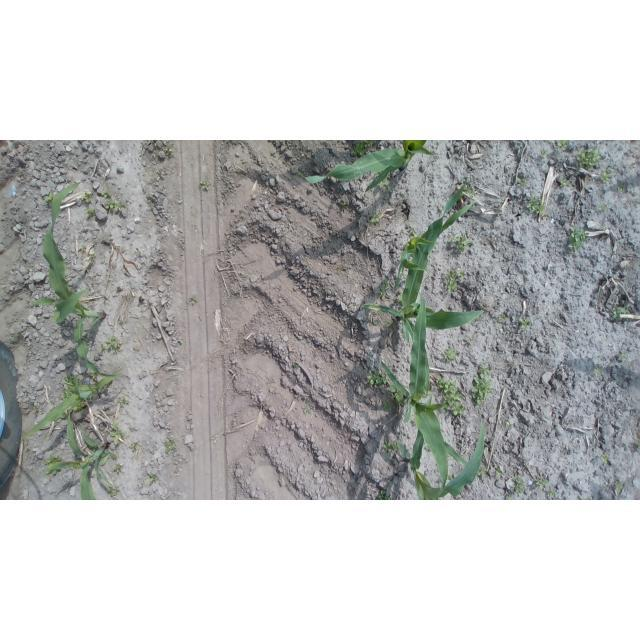Maize: (362, 186, 485, 344), (26, 182, 121, 378), (380, 313, 449, 492), (393, 201, 477, 295), (20, 370, 124, 441), (396, 418, 486, 500), (293, 140, 437, 186), (46, 410, 110, 500)
Weeds: (434, 376, 464, 416), (471, 363, 493, 406), (442, 267, 465, 293), (577, 148, 602, 171), (568, 227, 588, 252), (506, 476, 526, 500), (447, 233, 471, 253), (526, 196, 546, 218), (349, 140, 374, 156), (365, 370, 388, 387), (110, 421, 125, 444), (45, 455, 61, 476), (389, 384, 404, 405), (99, 449, 117, 466), (103, 198, 125, 211), (460, 183, 476, 199), (106, 336, 121, 352), (377, 177, 393, 192), (599, 168, 613, 184), (612, 307, 629, 320), (444, 347, 459, 361), (382, 440, 398, 453), (535, 477, 550, 490), (64, 375, 81, 386), (164, 439, 177, 453), (519, 317, 533, 329), (368, 211, 380, 225), (108, 484, 120, 497), (408, 224, 420, 237), (164, 145, 177, 156), (198, 179, 210, 190), (556, 141, 568, 152), (155, 169, 165, 182), (82, 192, 93, 203), (187, 292, 197, 304), (383, 400, 393, 412), (378, 490, 390, 500), (85, 208, 95, 219), (73, 401, 84, 411), (617, 351, 628, 361), (386, 320, 394, 333), (101, 189, 112, 198), (88, 253, 97, 264), (113, 464, 124, 473), (560, 179, 571, 188), (61, 390, 70, 400), (477, 468, 487, 477), (614, 482, 624, 491), (602, 454, 611, 464), (44, 193, 52, 204), (118, 397, 129, 405), (376, 288, 387, 296), (517, 177, 526, 186), (540, 149, 550, 157), (497, 315, 507, 323), (380, 279, 390, 287), (148, 200, 156, 209), (89, 372, 97, 381), (149, 475, 158, 483), (599, 204, 608, 212), (301, 404, 309, 413), (594, 366, 601, 376), (496, 468, 503, 477), (548, 492, 555, 501), (129, 443, 136, 451), (177, 339, 184, 347), (635, 439, 640, 449), (617, 185, 624, 192), (466, 338, 473, 345), (439, 205, 446, 212), (370, 318, 377, 325), (172, 380, 181, 385), (337, 267, 344, 273), (33, 406, 39, 412), (400, 196, 406, 202), (139, 140, 148, 144), (503, 420, 509, 426), (293, 363, 300, 368), (81, 245, 86, 251), (136, 252, 141, 257), (100, 344, 105, 349), (601, 235, 605, 240), (340, 202, 344, 206)
